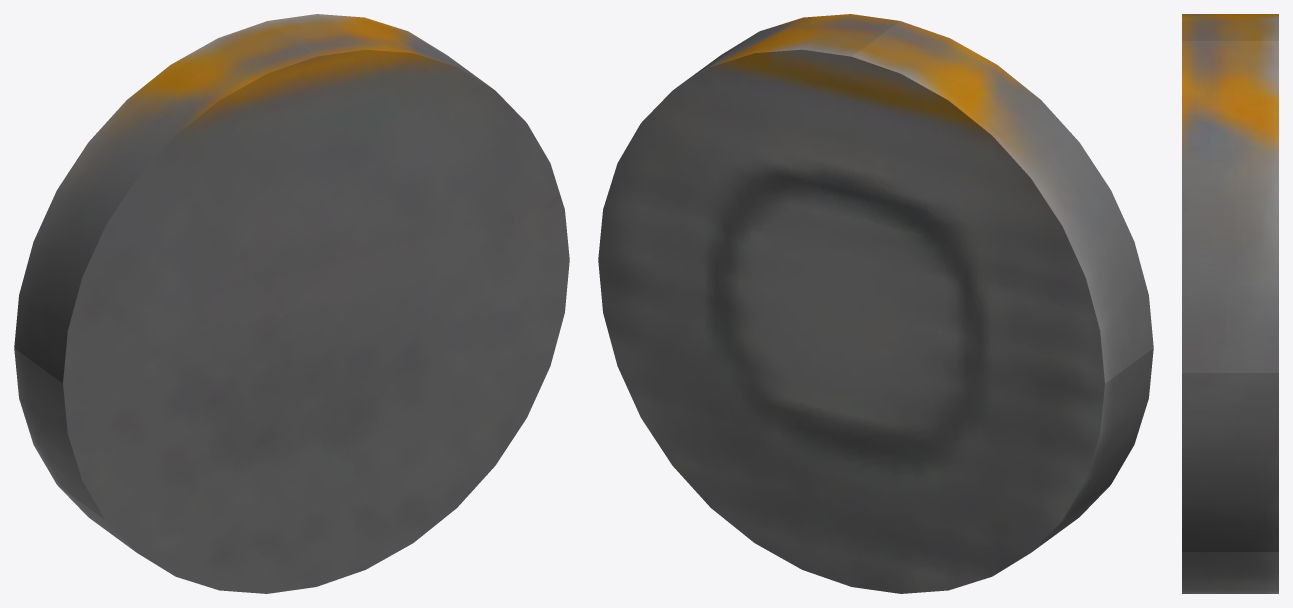
The model's file is right_start_button__button_cap.glb.
3 renders of one model, left to right at view 1: azimuth 30°, elevation 25°; view 2: azimuth 150°, elevation 25°; view 3: azimuth 270°, elevation 25°, orthographic.
Parts seen in each view (by area): view 1: geometry_0; view 2: geometry_0; view 3: geometry_0.
Boxes of the visible parts, x1,y1,x2,y2 form: geometry_0: (14, 14, 569, 593); geometry_0: (598, 14, 1153, 593); geometry_0: (1182, 14, 1278, 593).
Size of the model in its own units: 0.072 by 0.072 by 0.012.
1 material, 1 textured.
